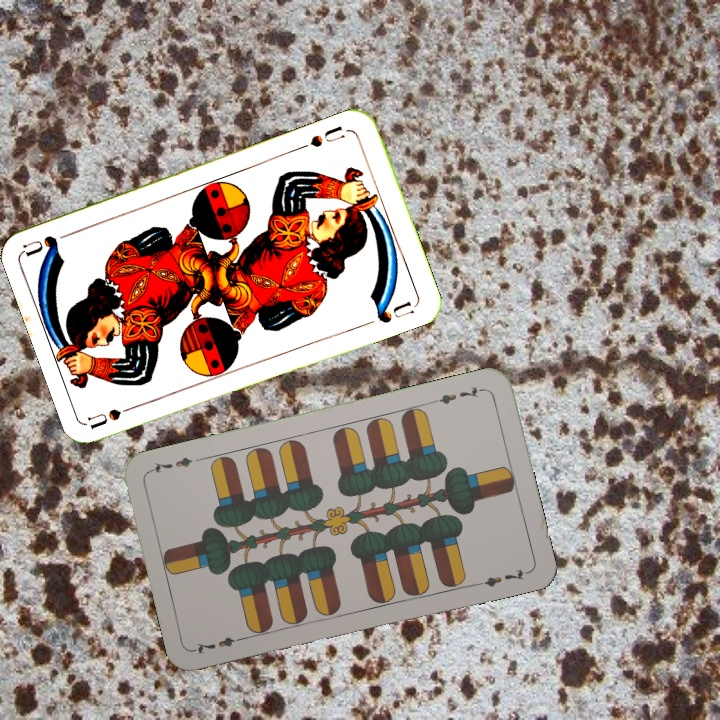E7: (429, 382, 487, 407), (191, 632, 249, 657)
SU: (85, 399, 144, 431), (295, 122, 348, 152)
